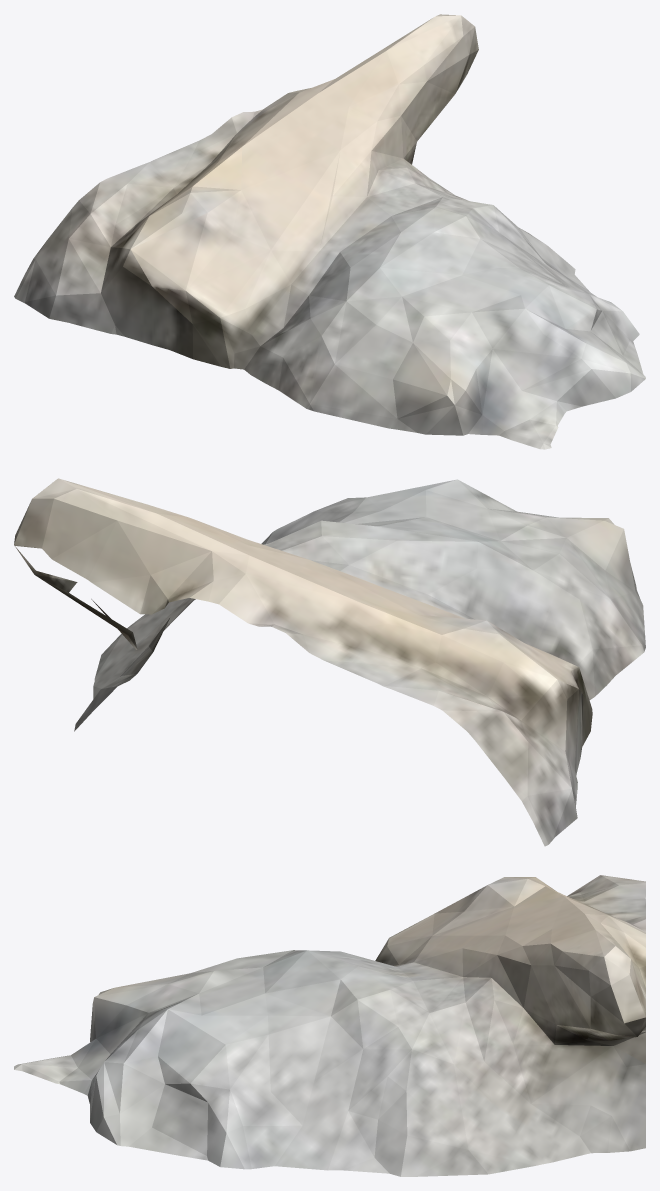
3 renders of one model, top to bottom at view 1: azimuth 30°, elevation 25°; view 2: azimuth 150°, elevation 25°; view 3: azimuth 270°, elevation 25°, orthographic. The views are drawn at different scales.
Bounding box in the file's own units: 1.5 × 0.6028 × 1.65.
1 material, 1 textured.
